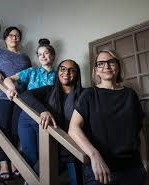Bad: (55, 47, 145, 138), (25, 39, 82, 102), (1, 26, 56, 84)
